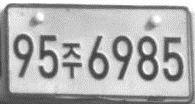5: (162, 35, 184, 82), (38, 34, 58, 78)
6: (86, 35, 110, 79)
8: (136, 36, 159, 81)
9: (111, 35, 134, 81), (13, 34, 34, 78)
주: (60, 41, 83, 79)
